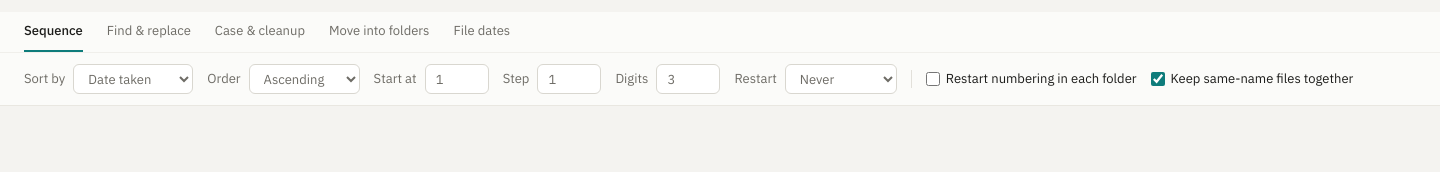
it: OptionTabs › edits the sequence settings and counts the active ones
Select "Name" in the dropdown labelled "Sort by" at (133,79), box x1=73 y1=64 x2=193 y2=94
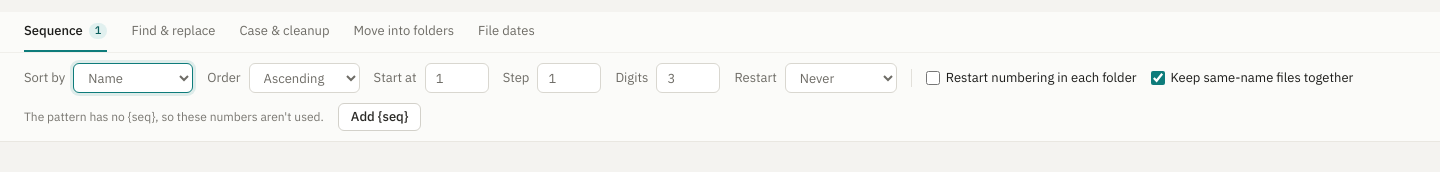
Clear the field labelled "Digits" at (688,78), box x1=656 y1=63 x2=720 y2=93
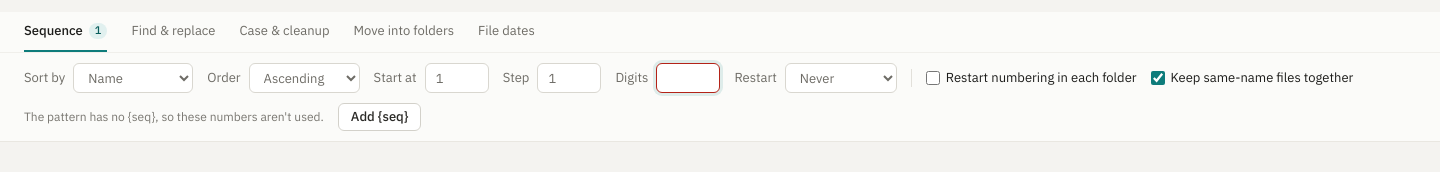
Type "4" into the field labelled "Digits" at (688,78), box x1=656 y1=63 x2=720 y2=93
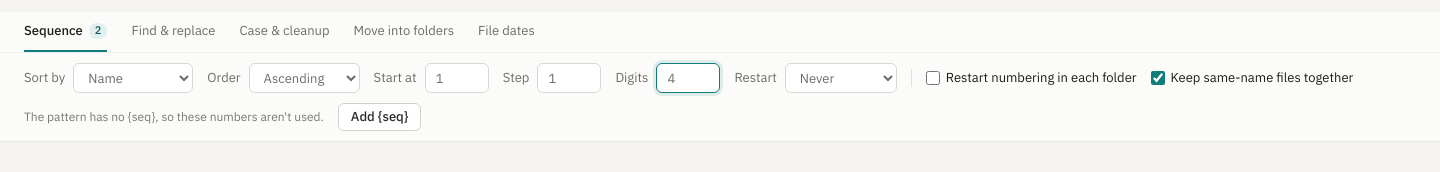
Click the checkbox labelled "Restart numbering in each folder" at (933,78), box x1=926 y1=71 x2=940 y2=85
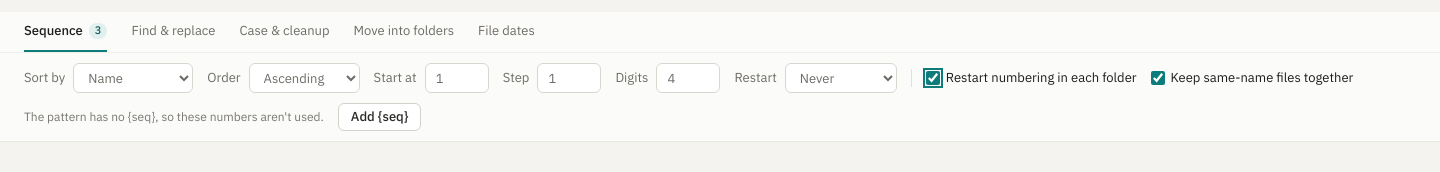
Check: the tab "Sequence 3" is shown, box x1=24 y1=12 x2=107 y2=52
